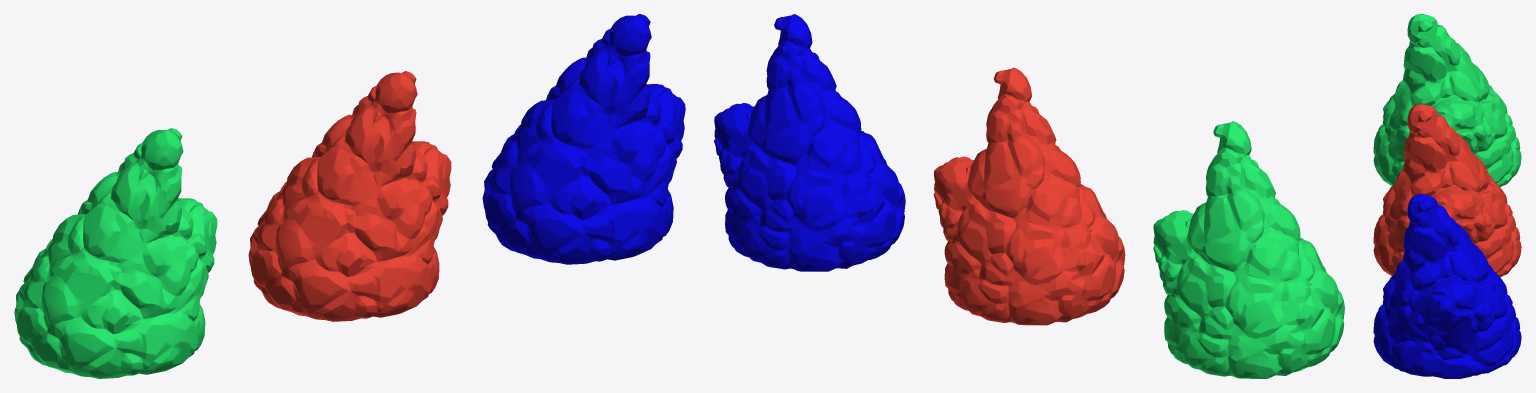
Rendered from Stone 2.fbx.
3 views of the same model, side by side, from view 1: azimuth 30°, elevation 25°; view 2: azimuth 150°, elevation 25°; view 3: azimuth 270°, elevation 25° (orthographic). The views are drawn at different scales.
Visible parts, largest first — view 1: Rock_2, Rock_1, Rock_3; view 2: Rock_1, Rock_2, Rock_3; view 3: Rock_2, Rock_1, Rock_3.
Boxes of the visible parts, <box> form: Rock_2: <box>482,14,685,264</box>; Rock_1: <box>248,71,451,321</box>; Rock_3: <box>14,128,217,378</box>; Rock_1: <box>933,67,1125,325</box>; Rock_2: <box>714,14,905,271</box>; Rock_3: <box>1153,121,1344,378</box>; Rock_2: <box>1373,194,1521,378</box>; Rock_1: <box>1373,104,1521,277</box>; Rock_3: <box>1373,14,1521,186</box>.
Bounding box in the file's own units: 5038 × 1613 × 1251.
